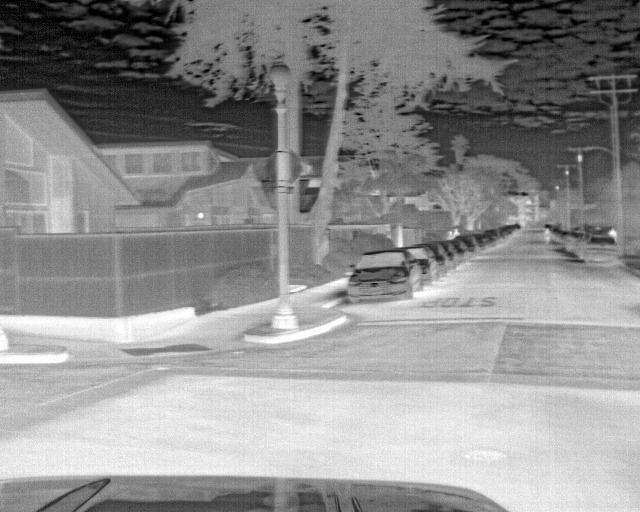car: (342, 246, 410, 304), (402, 244, 435, 288), (584, 234, 622, 267), (429, 242, 446, 279), (442, 238, 460, 267), (447, 237, 469, 258), (565, 229, 583, 252), (464, 235, 481, 255)
